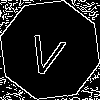V: (25, 25, 69, 78)
